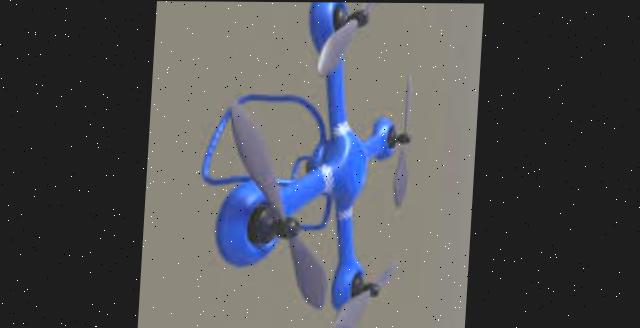drone: (176, 1, 425, 328)
